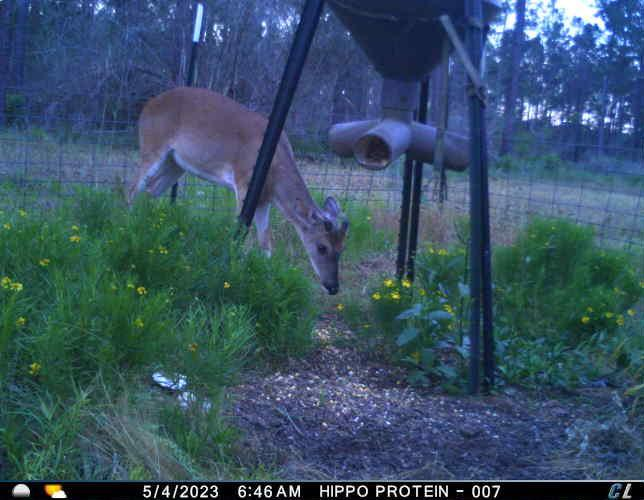Deer: (127, 84, 351, 298)
